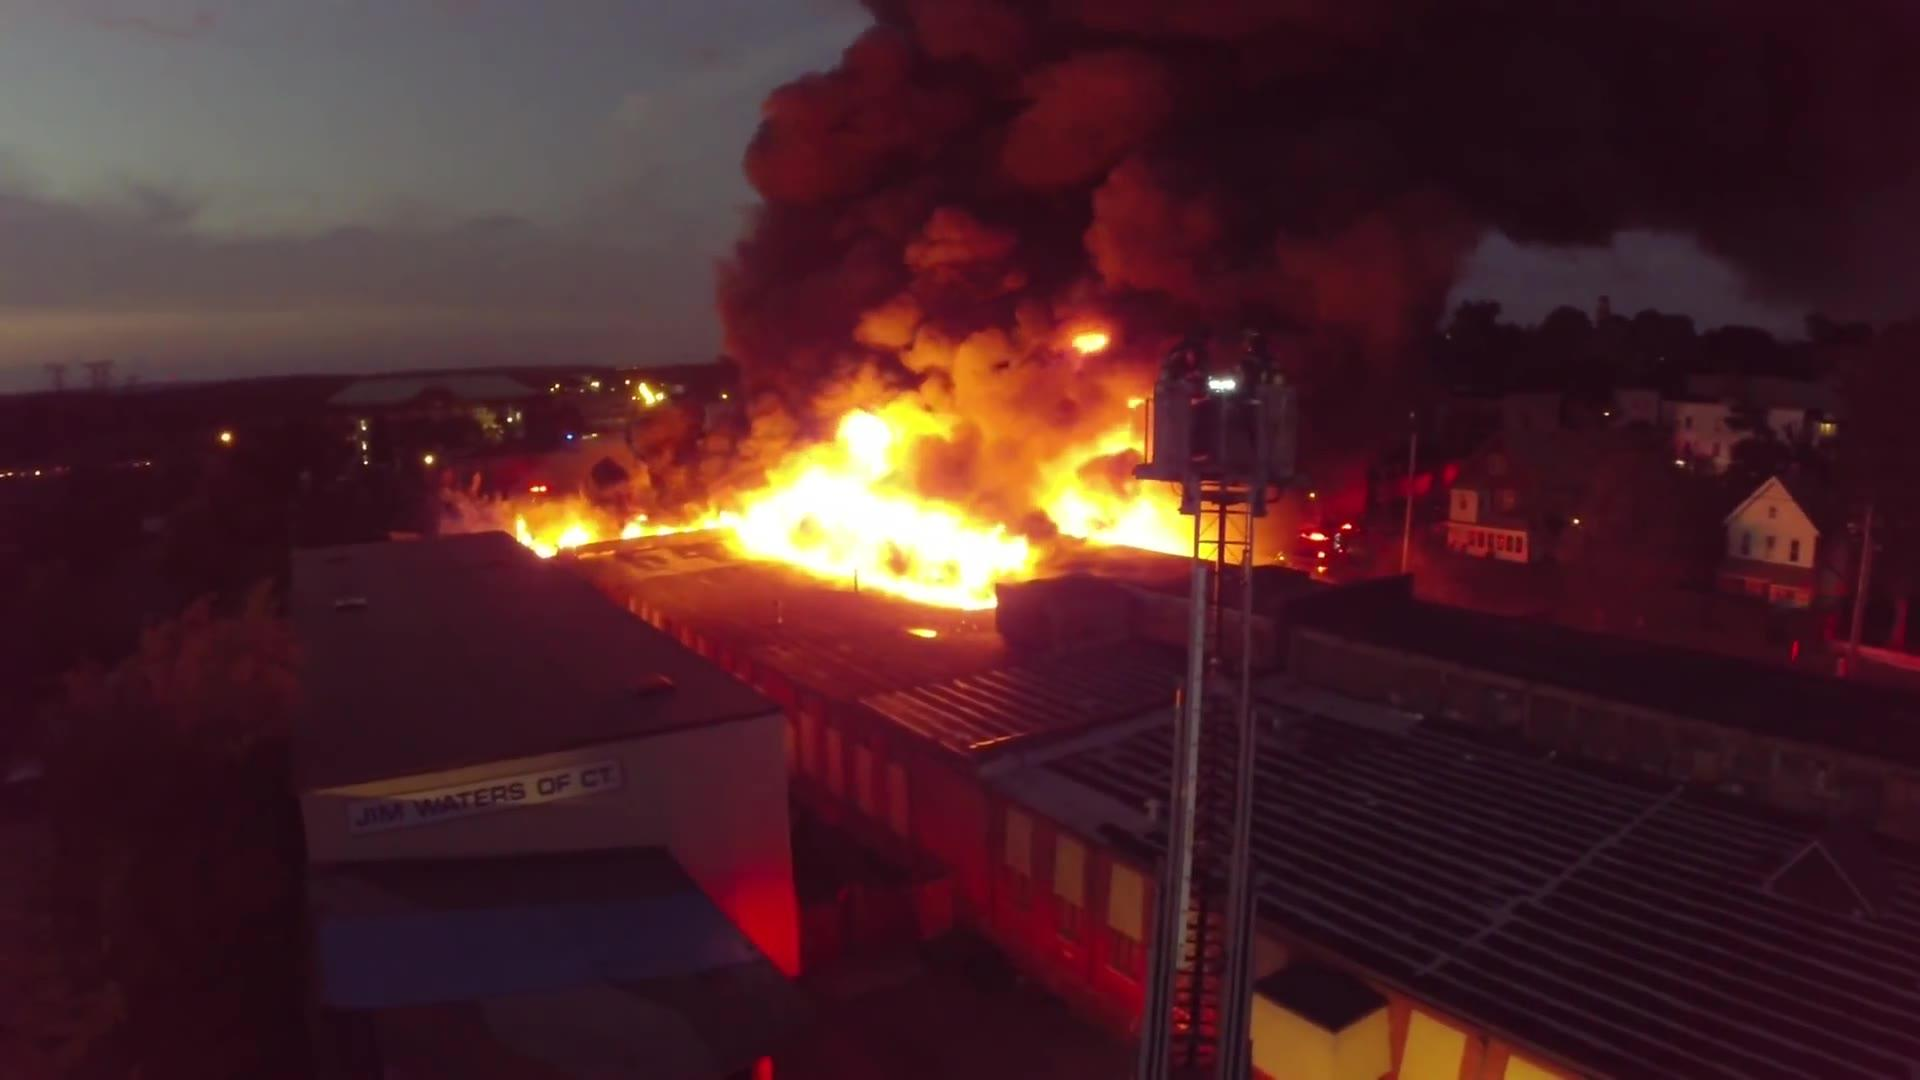fire: (750, 454, 1000, 604)
smoke: (876, 0, 1916, 290)
